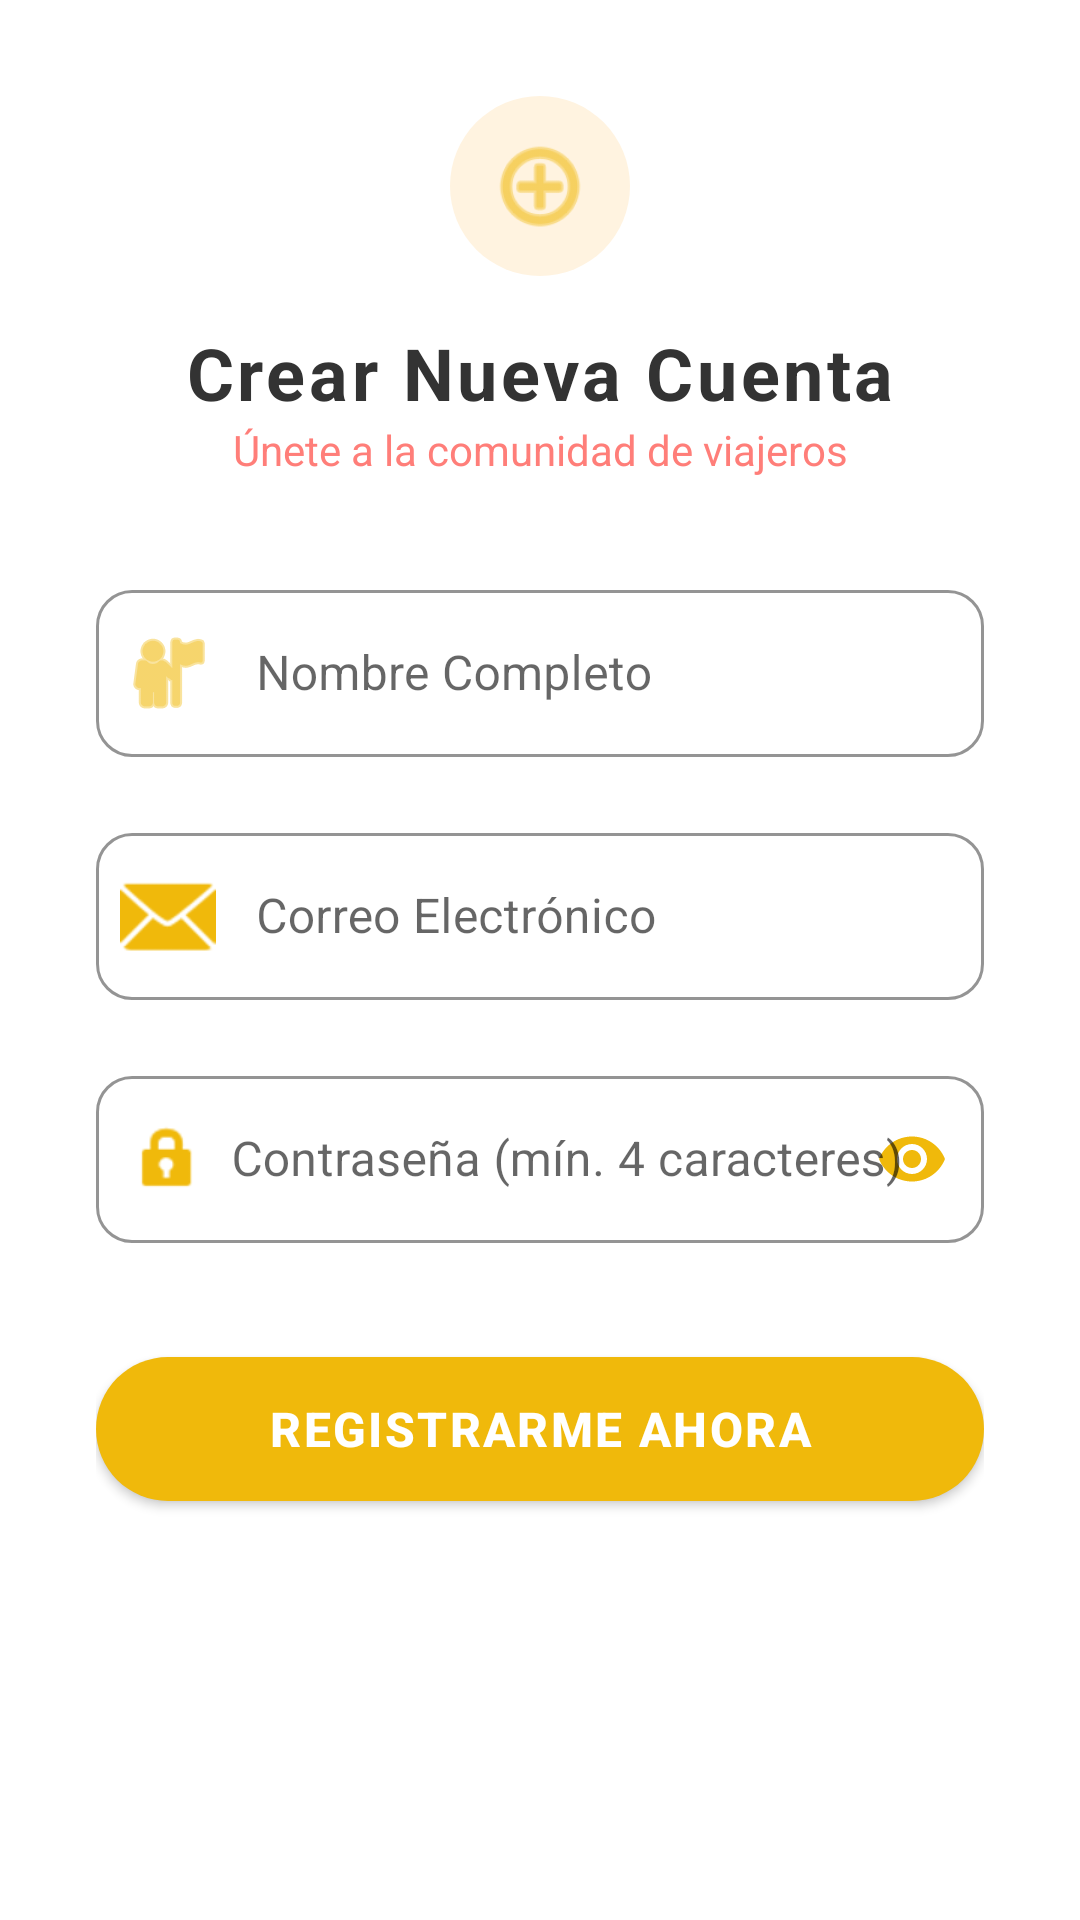

Icons on this 1080*1920 Android screen, each with the point to tap as (x,y):
Icono registro: (540,186)
